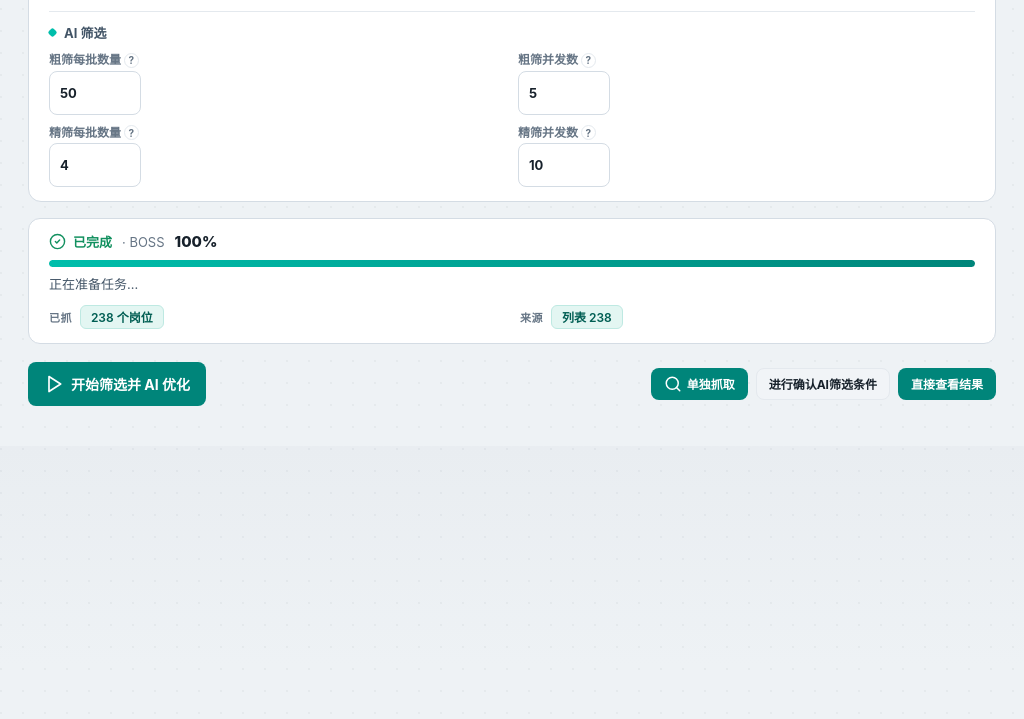
Test: DiscoveryView B038 跳过 AI 直接查看 › 直接查看：238 个未筛选岗位按待筛选展示，不计入 kept
The width and height of the screenshot is (1024, 719).
(page scrolled)
Click the button with test id "view-scraped-only" at (947, 384), box top-left (898, 368), bottom-right (996, 400)
(page scrolled)
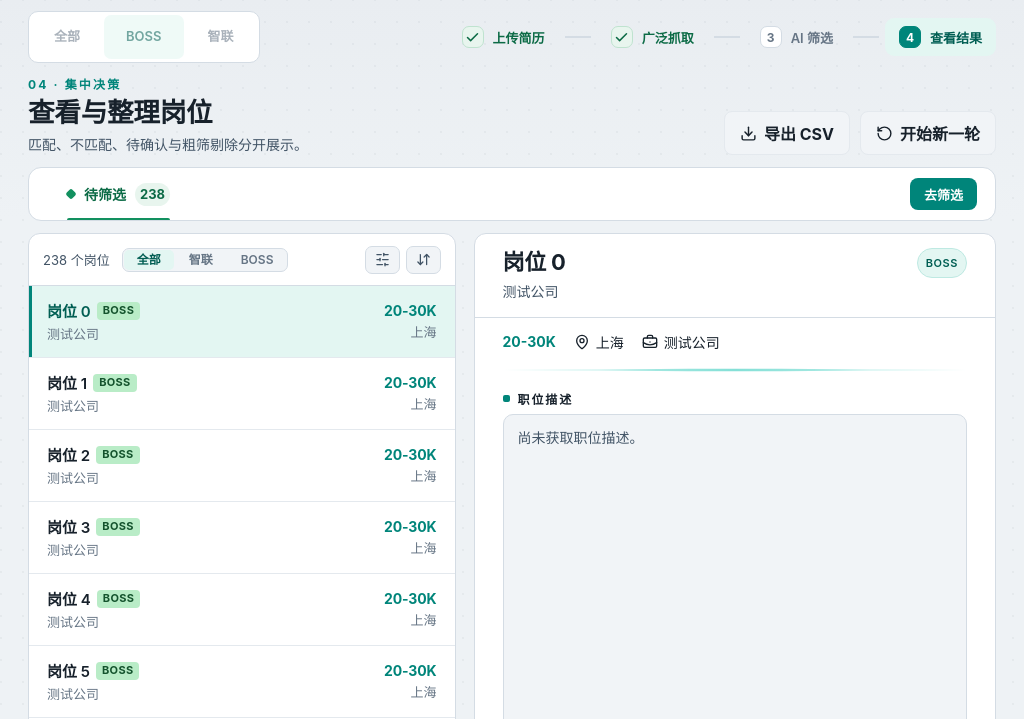
Check: the text "待筛选" is shown, box top-left (47, 168), bottom-right (190, 220)
Check: the text "岗位 0" is shown, box top-left (47, 300), bottom-right (91, 321)
Check: the tab "待筛选 238" is shown, box top-left (47, 168), bottom-right (190, 220)
